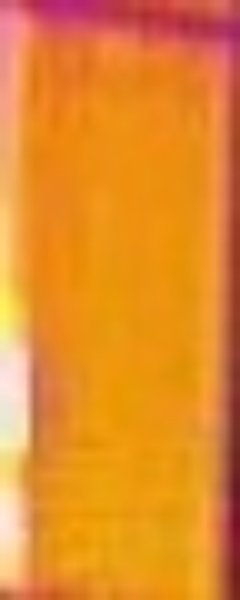Diode: (1, 273, 42, 590)
